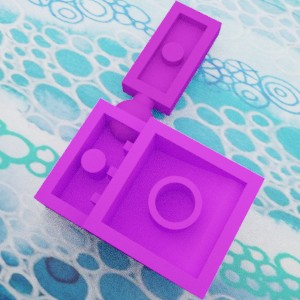lego: (32, 97, 265, 299), (108, 0, 222, 144)
